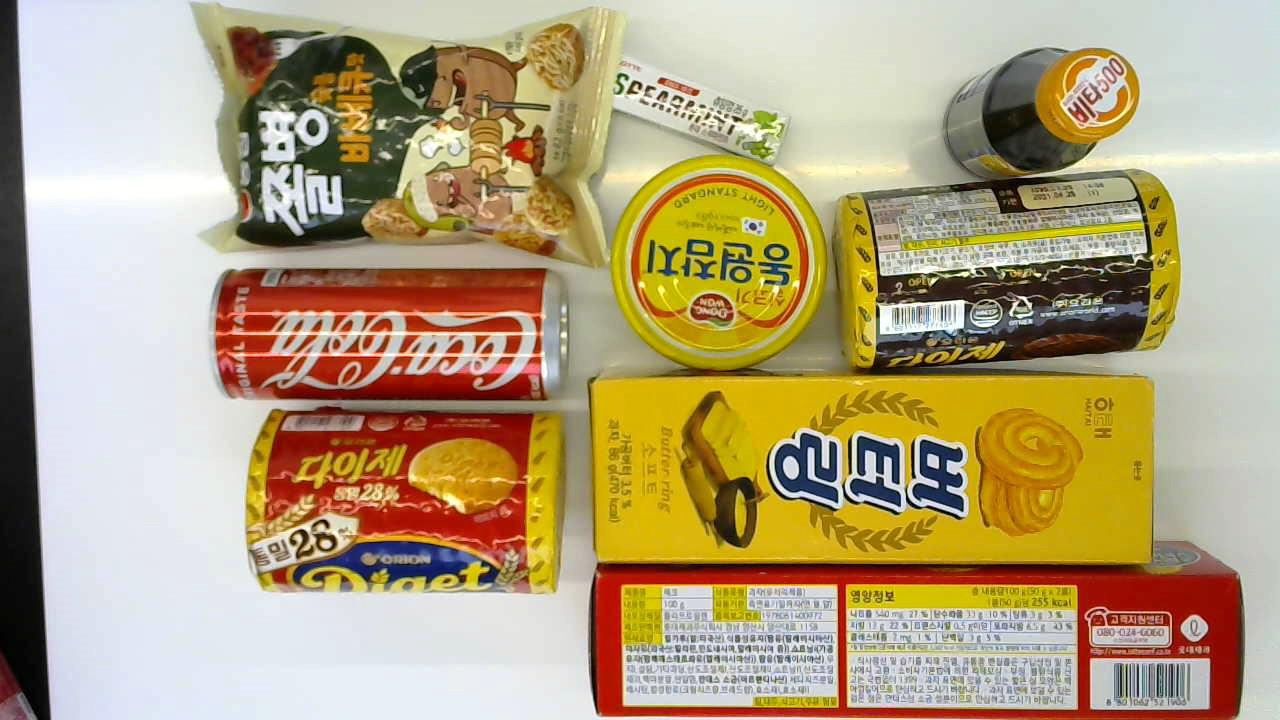buttering: (588, 369, 1156, 568)
coke: (208, 267, 573, 400)
diget_choco: (838, 167, 1181, 373)
diget_ori: (247, 405, 567, 592)
jjolbyung_ori: (202, 0, 621, 270)
spearmint: (600, 49, 790, 167)
tuna: (608, 156, 825, 371)
vita500: (942, 49, 1138, 176)
zec: (589, 536, 1247, 720)
